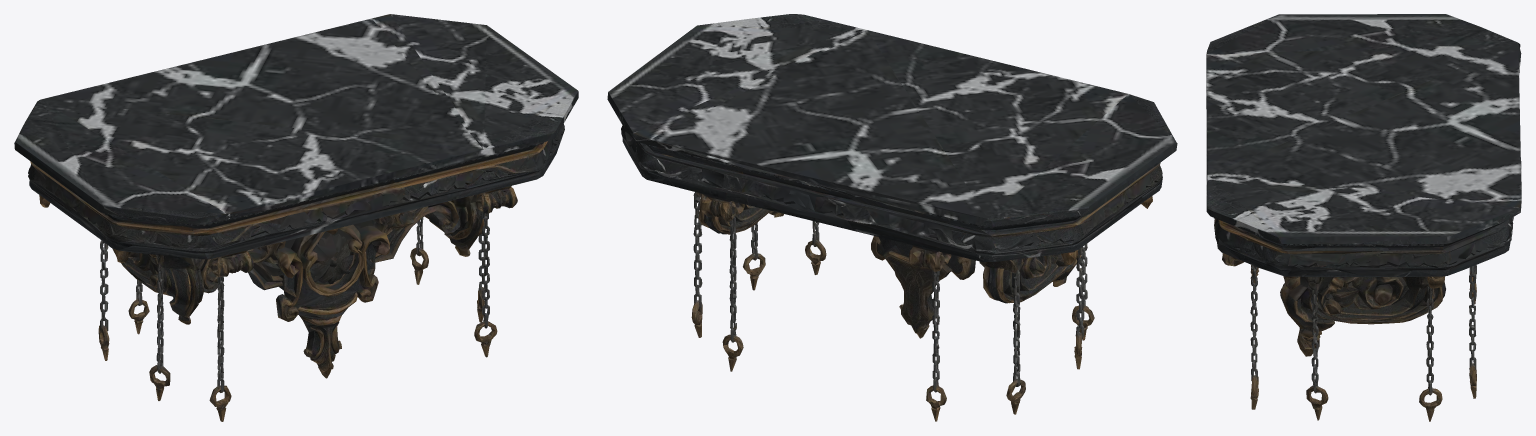
The model's file is mx_tr_gothic_ledge.glb.
3 renders of one model, left to right at view 1: azimuth 30°, elevation 25°; view 2: azimuth 150°, elevation 25°; view 3: azimuth 270°, elevation 25°, orthographic. The views are drawn at different scales.
Bounding box in the file's own units: 1.9 × 0.9147 × 1.13.
1 material, 1 textured.
